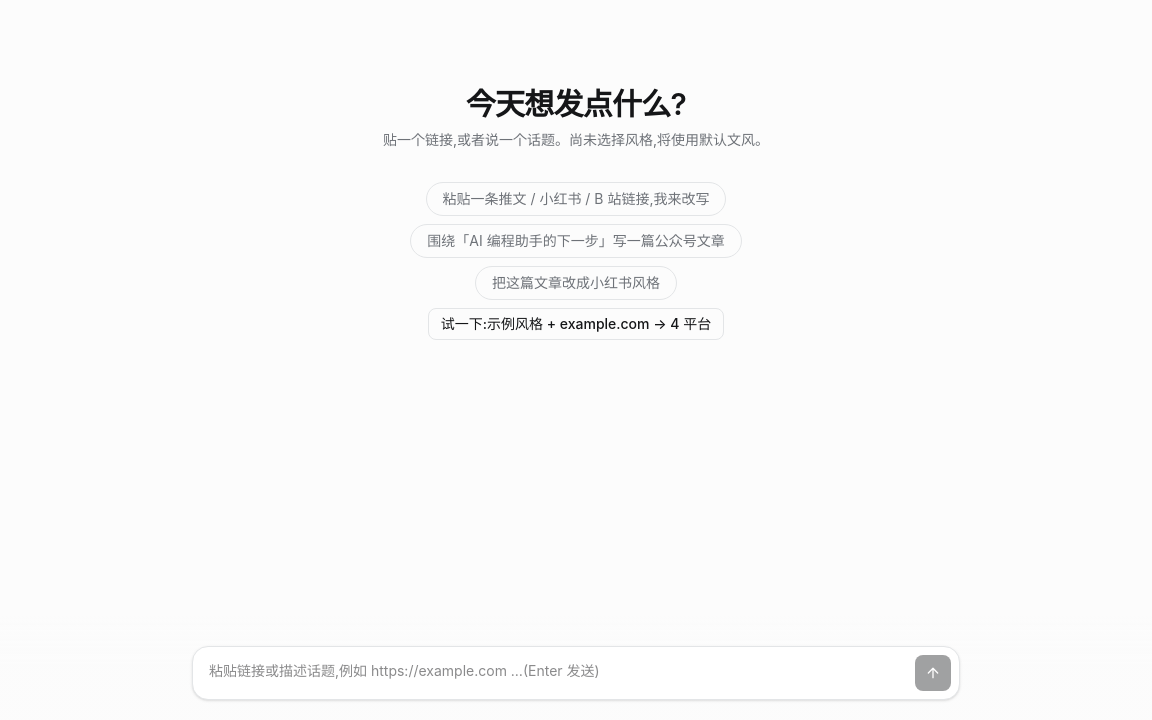
Test: Chat › 试一下 posts to /api/rewrite and shows SourceCard
The image size is (1152, 720).
Click the button "试一下:示例风格 + example.com → 4 平台".
click(576, 324)  # box [428,308,724,340]
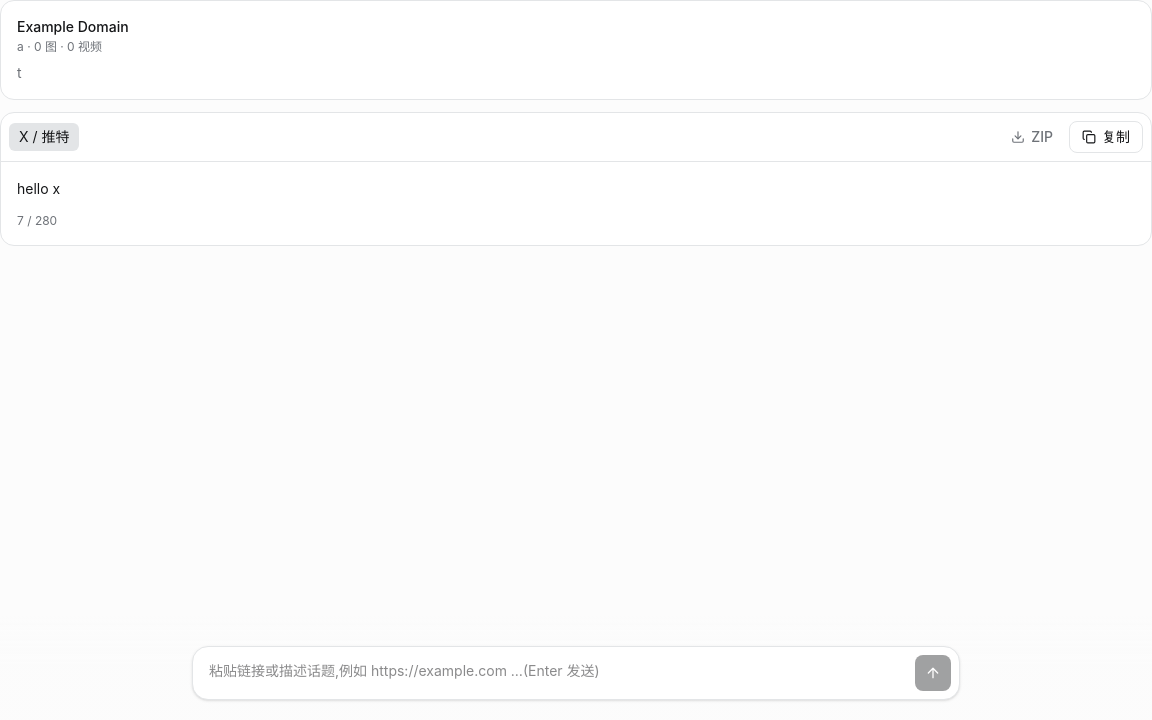
Expected: the text "Example Domain" is shown, [17,18,129,35]
Expected: the text "今天想发点什么?" is gone
